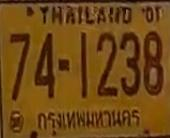1: (80, 32, 86, 98)
2: (96, 32, 116, 97)
3: (119, 32, 140, 95)
4: (34, 32, 54, 98)
7: (9, 32, 30, 100)
8: (142, 30, 162, 94)
BKK: (34, 105, 145, 136)
